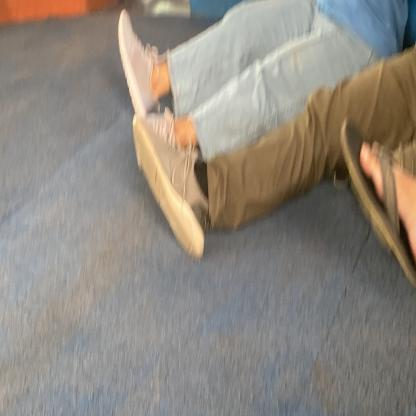leg: (111, 112, 290, 260), (316, 102, 416, 300), (105, 5, 226, 105)
